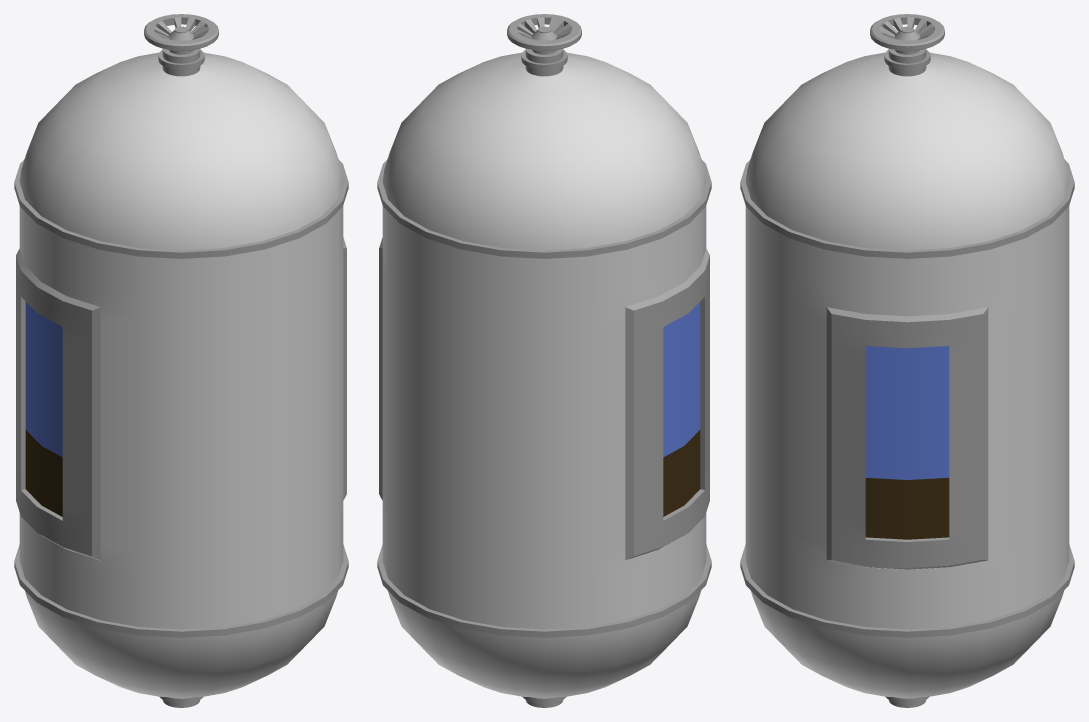
File: WasteTank.fbx
The picture shows the model from 3 angles, left to right: view 1: azimuth 30°, elevation 25°; view 2: azimuth 150°, elevation 25°; view 3: azimuth 270°, elevation 25°; orthographic projection.
Visible parts, largest first — view 1: Tank, SilverTrims, Empty, Waste; view 2: Tank, SilverTrims, Empty, Waste; view 3: Tank, SilverTrims, Empty, Waste.
Part boxes in pixels (box(x1,y1,x2,y2)): Tank: box(19, 52, 343, 697); SilverTrims: box(14, 14, 348, 707); Empty: box(25, 302, 62, 457); Waste: box(25, 430, 62, 516); Tank: box(382, 52, 706, 697); SilverTrims: box(377, 14, 711, 707); Empty: box(663, 302, 700, 457); Waste: box(663, 430, 700, 516); Tank: box(745, 52, 1069, 697); SilverTrims: box(740, 14, 1074, 707); Empty: box(865, 346, 949, 479); Waste: box(865, 477, 949, 539).
Size of the model in its own units: 128 by 284 by 128.
